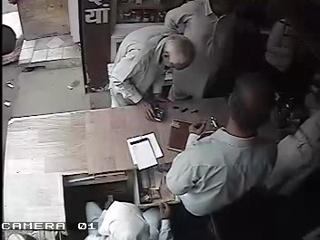Normal: (165, 72, 320, 239), (163, 0, 266, 102), (108, 24, 195, 110)
